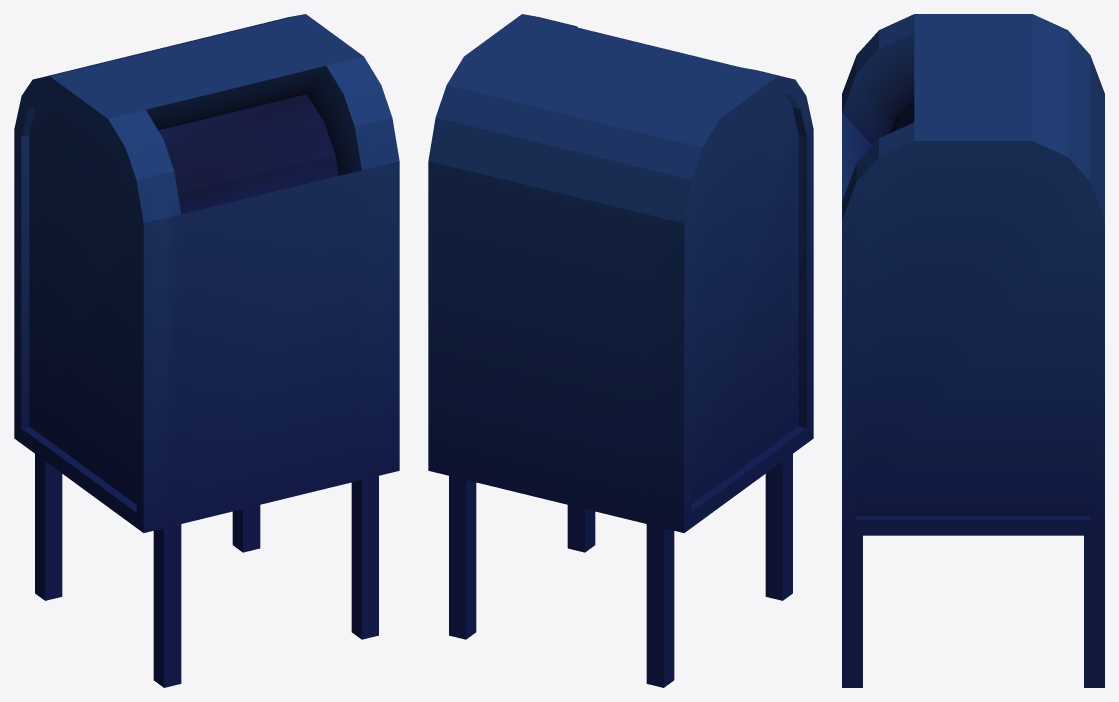
File: MailBox_2.FBX
3 renders of one model, left to right at view 1: azimuth 30°, elevation 25°; view 2: azimuth 150°, elevation 25°; view 3: azimuth 270°, elevation 25°, orthographic.
Parts seen in each view (by area): view 1: mailBox001; view 2: mailBox001; view 3: mailBox001.
Boxes of the visible parts, bbox=[...] form: mailBox001: bbox=[14, 14, 399, 687]; mailBox001: bbox=[428, 14, 813, 687]; mailBox001: bbox=[842, 14, 1104, 687].
Size of the model in its own units: 6.65 by 13.6 by 5.82.
